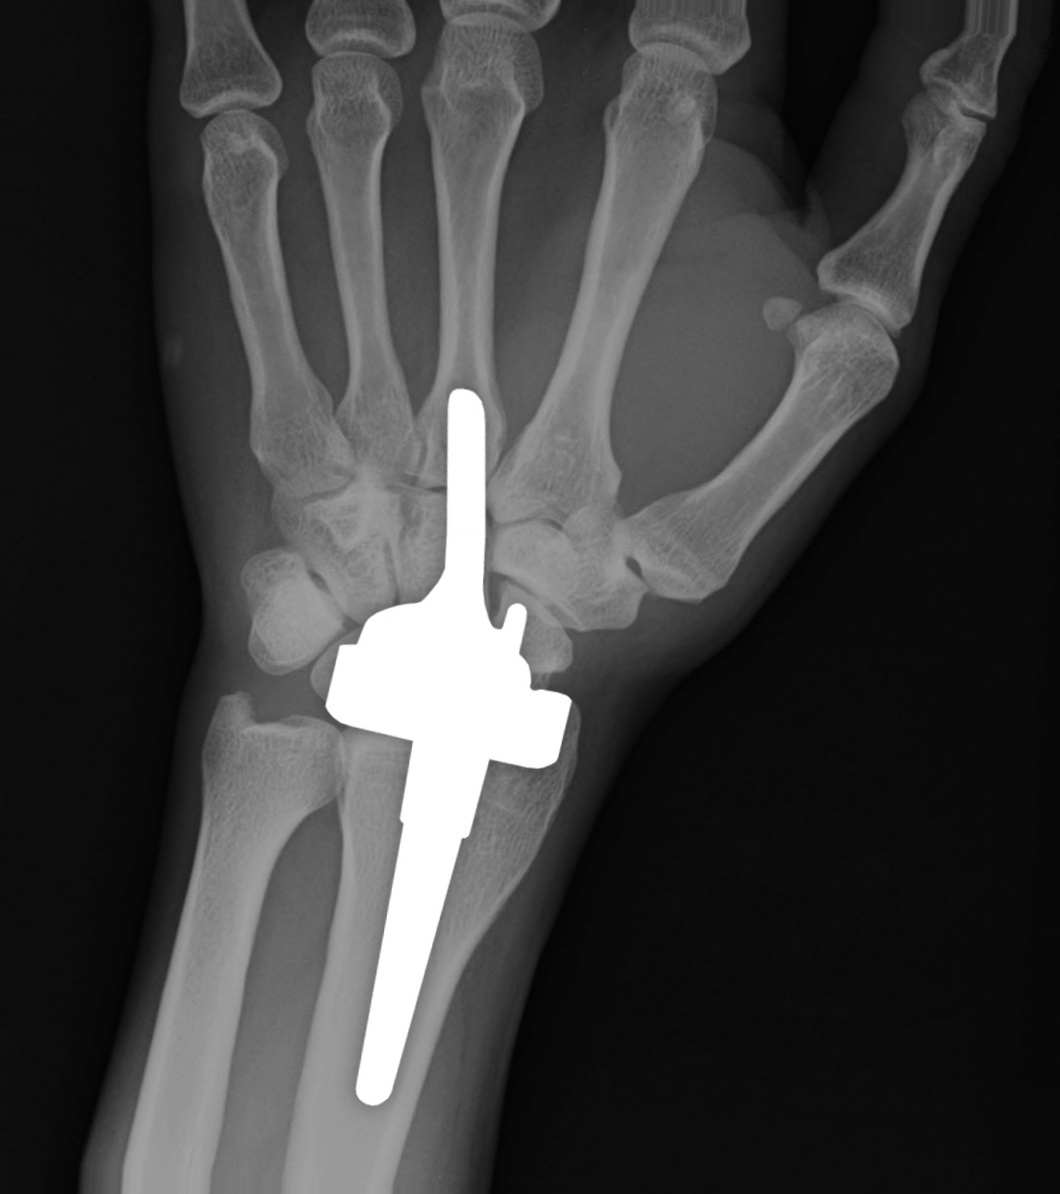Wrist-Biax-DePuuy: (300, 385, 586, 1125)
